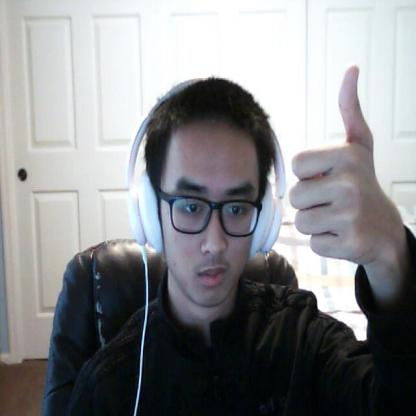Thumbs-Up: (290, 64, 391, 272)
